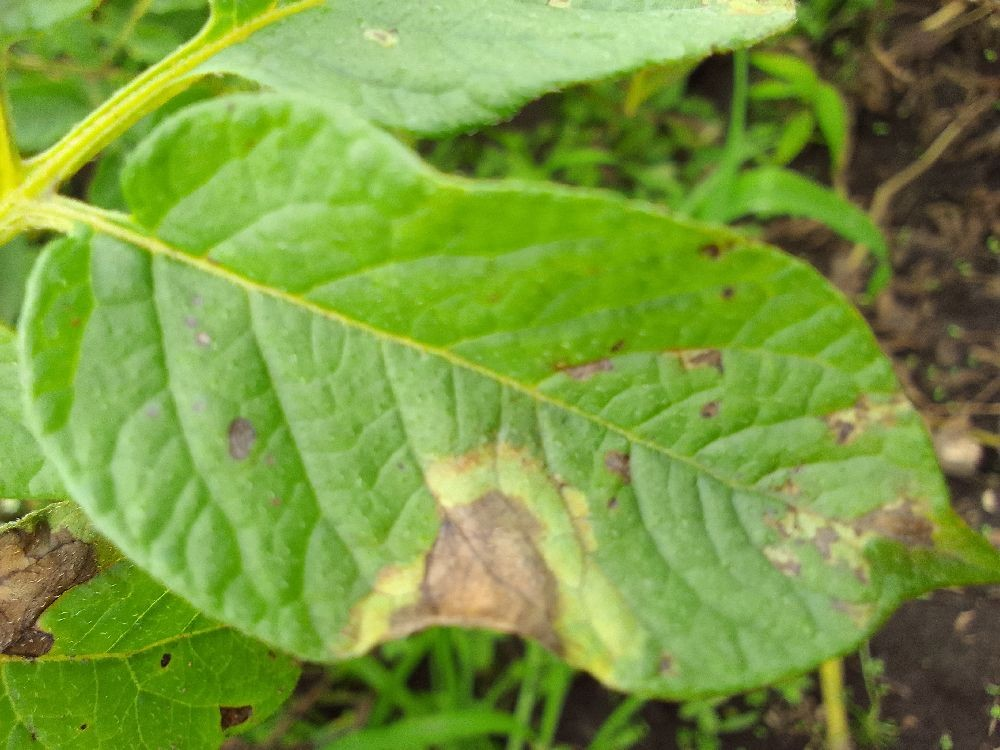late_blight: (744, 0, 999, 595), (341, 464, 594, 739), (676, 543, 1000, 750), (0, 481, 134, 684)
